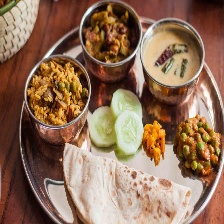sabzi: (79, 1, 141, 63)
